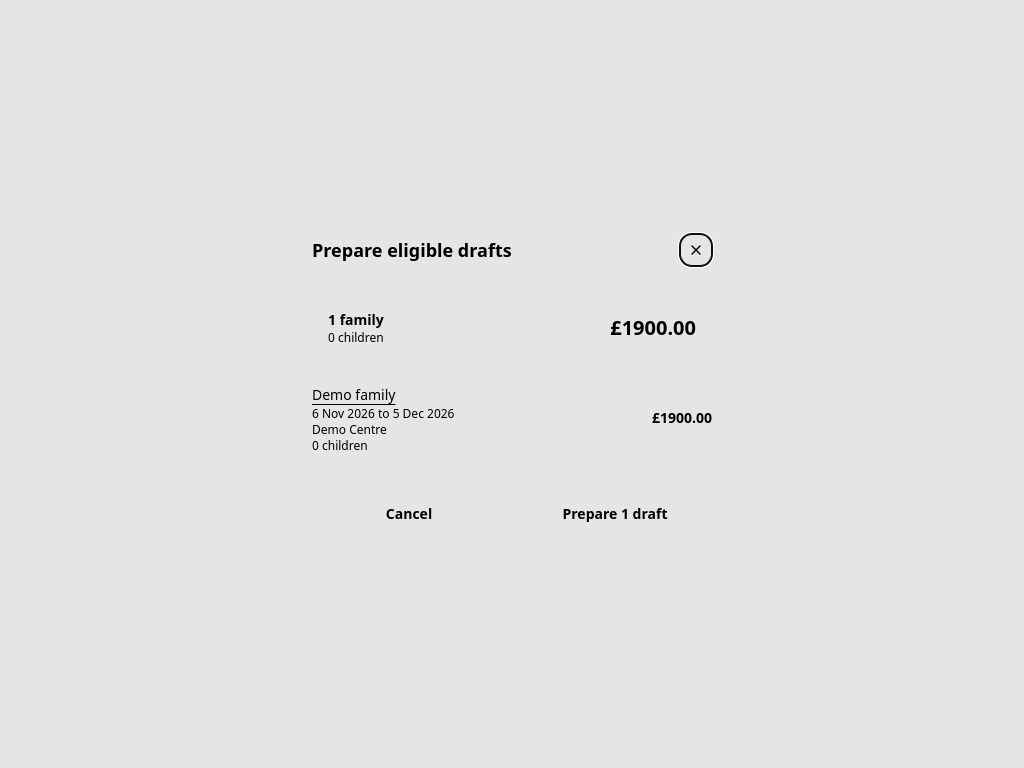
Test case: eligible draft preparation preview › keeps partial failure visible and restores the controls
Click the button "Prepare 1 draft".
click(615, 514)  # box [518,494,712,534]
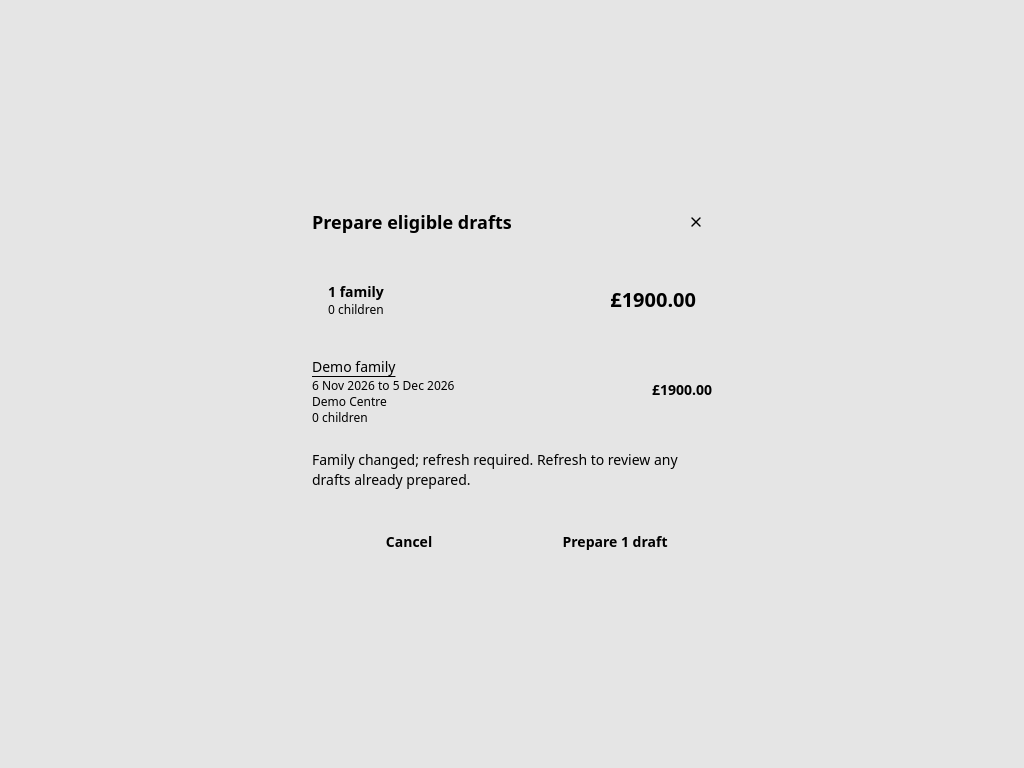
Check: the button "Prepare 1 draft" is enabled, box [518,522,712,562]
Check: the message shows "Family changed; refresh required.", box [312,450,533,469]
